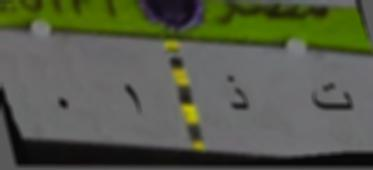0: (52, 87, 77, 122)
1: (120, 78, 148, 120)
taa: (304, 77, 358, 118)
zaal: (216, 70, 255, 124)
